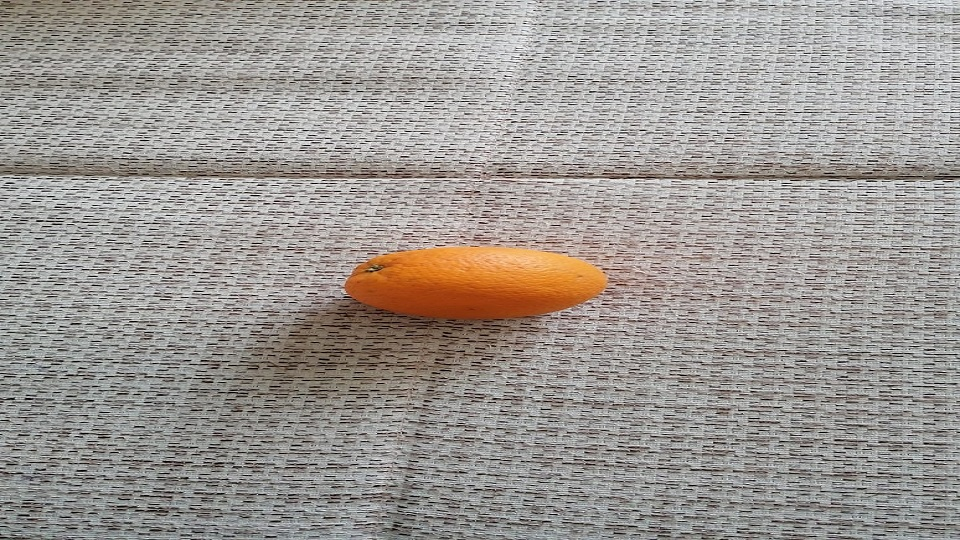portakal: (344, 245, 608, 323)
